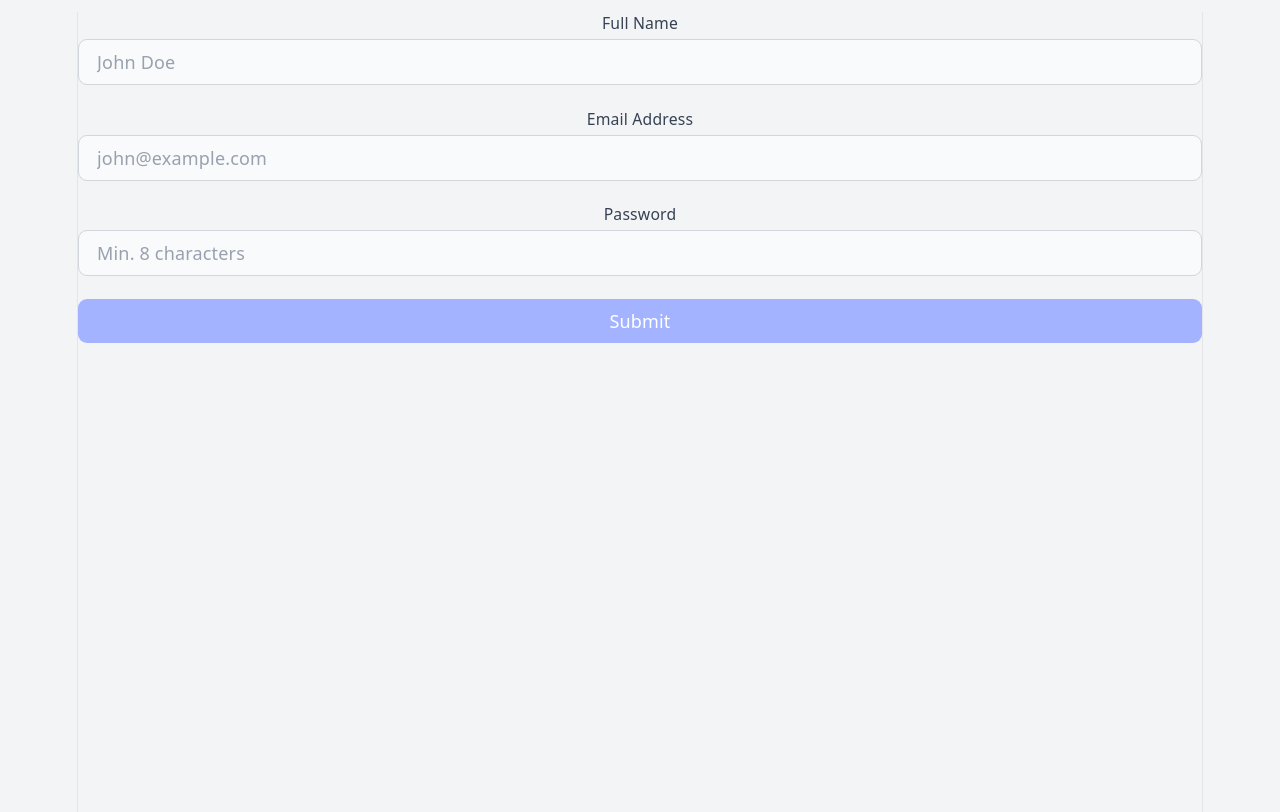
Test: FormValidation — required field errors › shows name error after leaving name field empty
// tab out of name without typing — triggers blur
Click the field labelled "Full Name".
click(640, 62)  # box [78,39,1202,85]
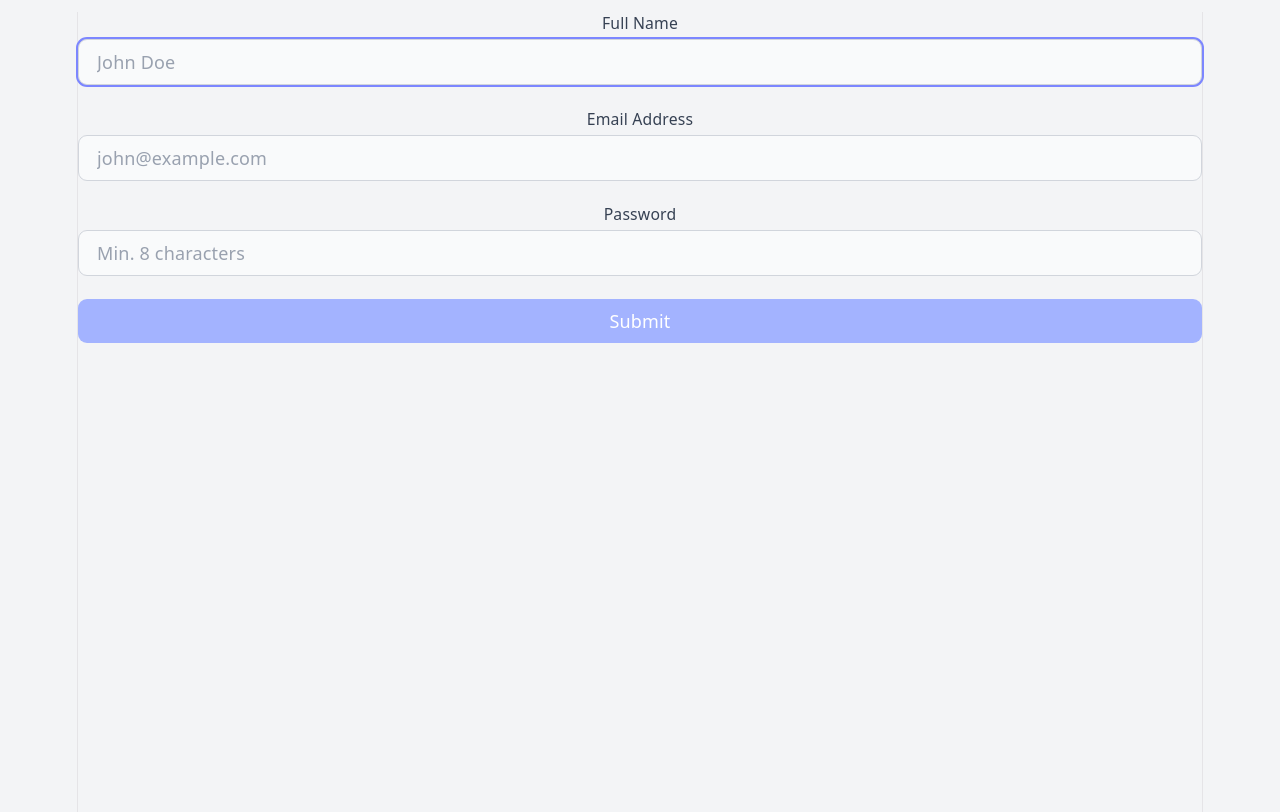
Press Tab
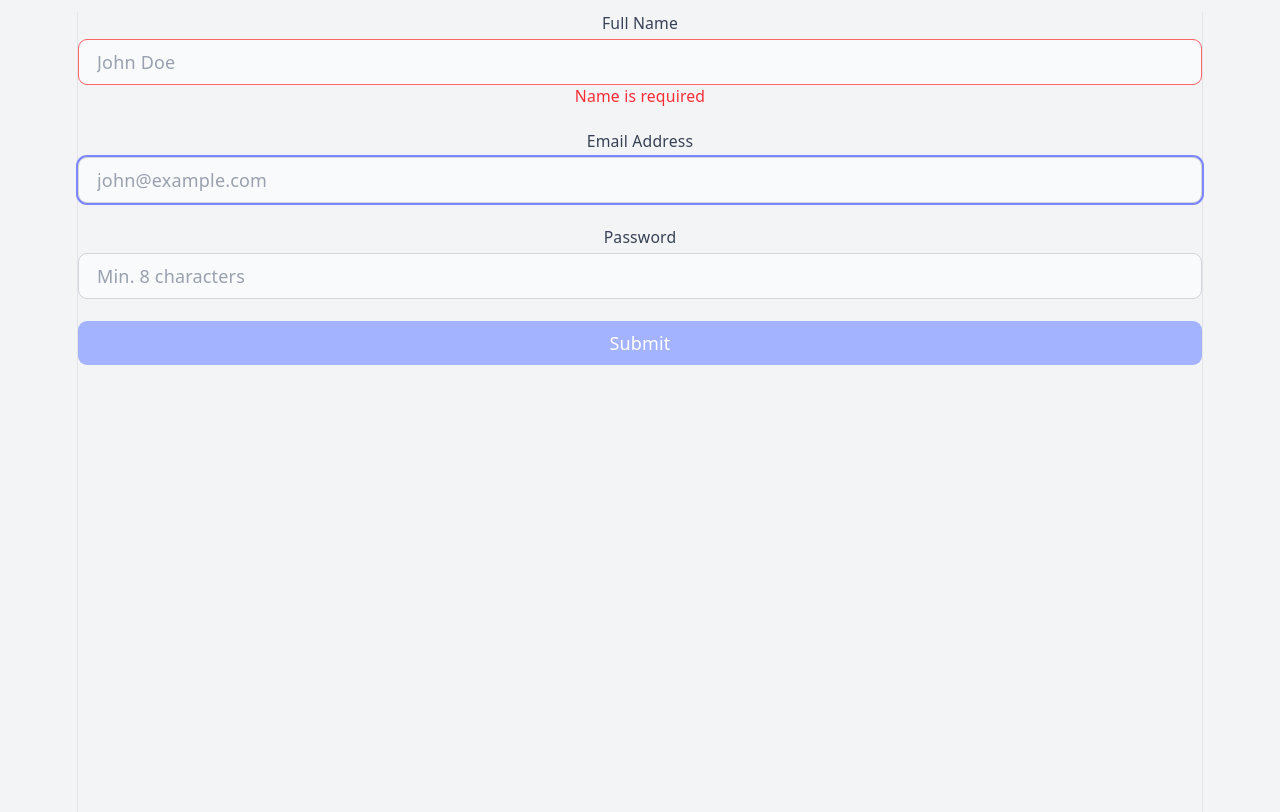
Expected: the message reads "Name is required", [575,85,705,107]
